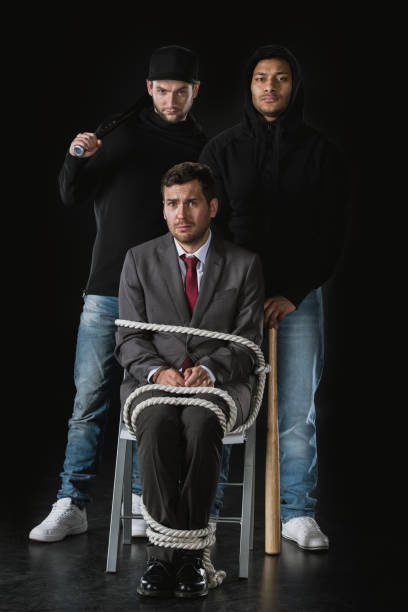bita: (261, 319, 284, 553), (78, 91, 153, 151)
